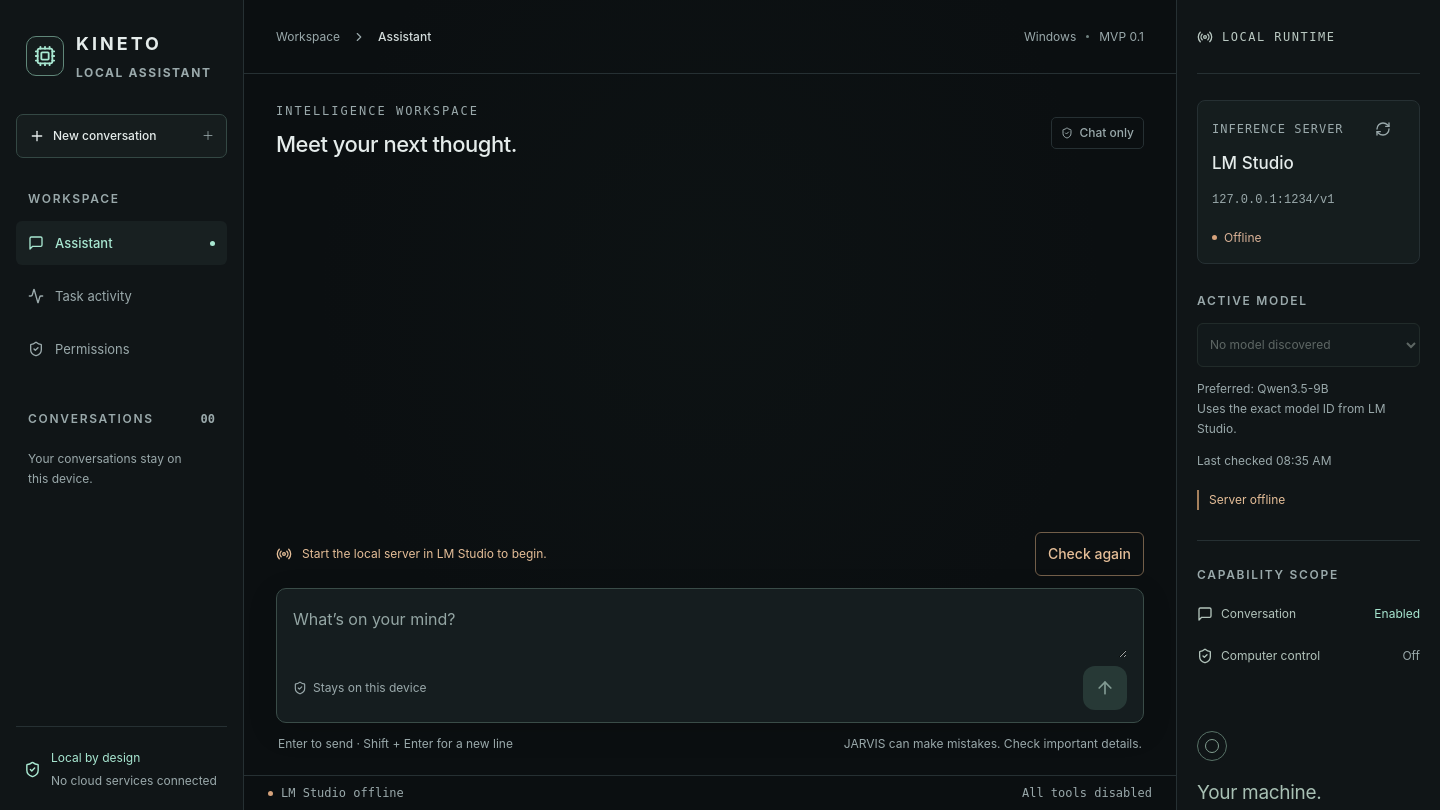
assistant workflow › keeps a draft and prevents sending while LM Studio is offline
The image size is (1440, 810).
(page scrolled)
Expected: the text "Server offline" is shown, x1=1197 y1=490 x2=1420 y2=510
Type "keep this" into the text box named "Message JARVIS".
click(710, 630); type("keep this")  # box x1=293 y1=603 x2=1127 y2=658
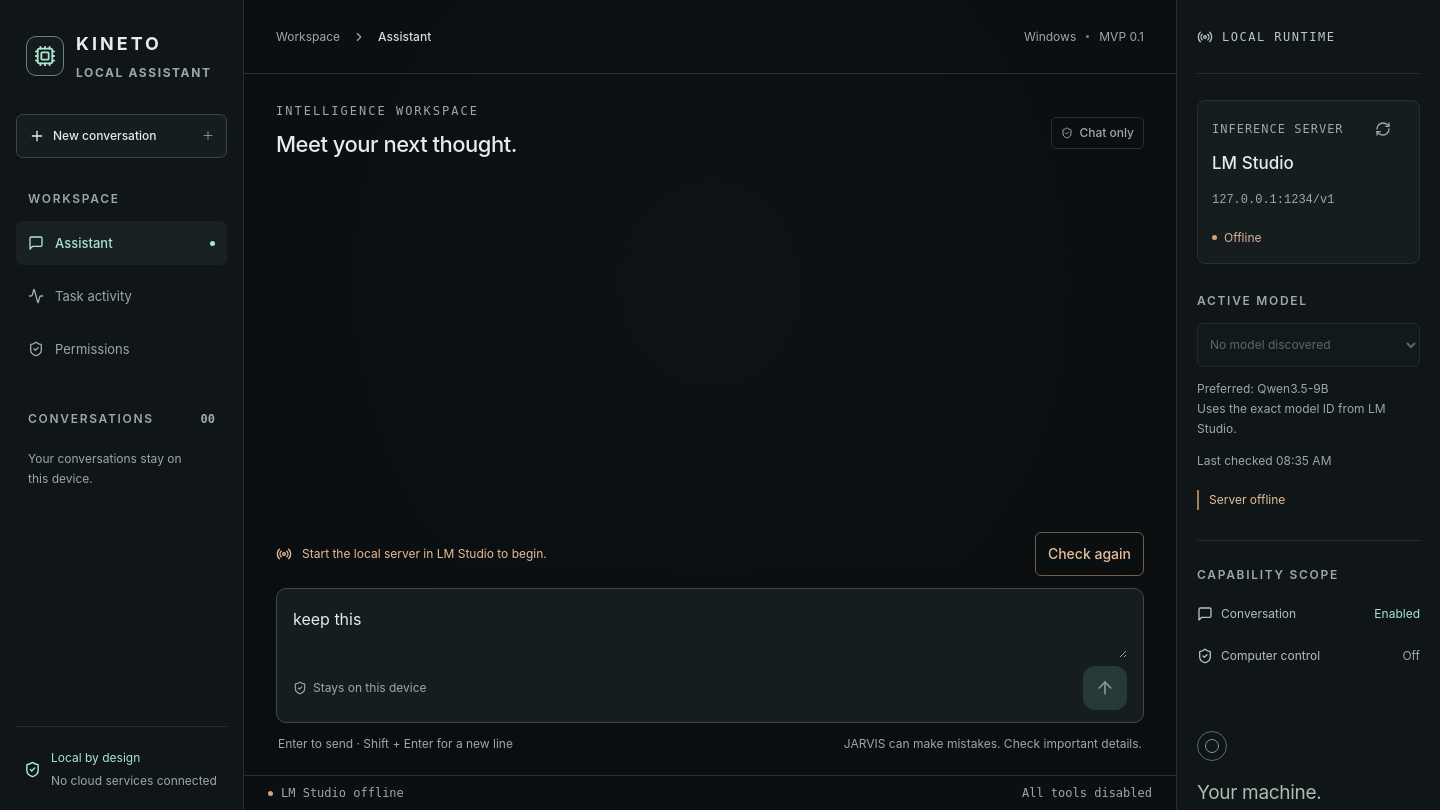
Expected: the button named "Send message" is disabled, x1=1083 y1=666 x2=1127 y2=710
Press Enter in the text box named "Message JARVIS", box x1=293 y1=603 x2=1127 y2=658
Click the button "Check again".
click(1089, 554)  # box x1=1035 y1=532 x2=1144 y2=576
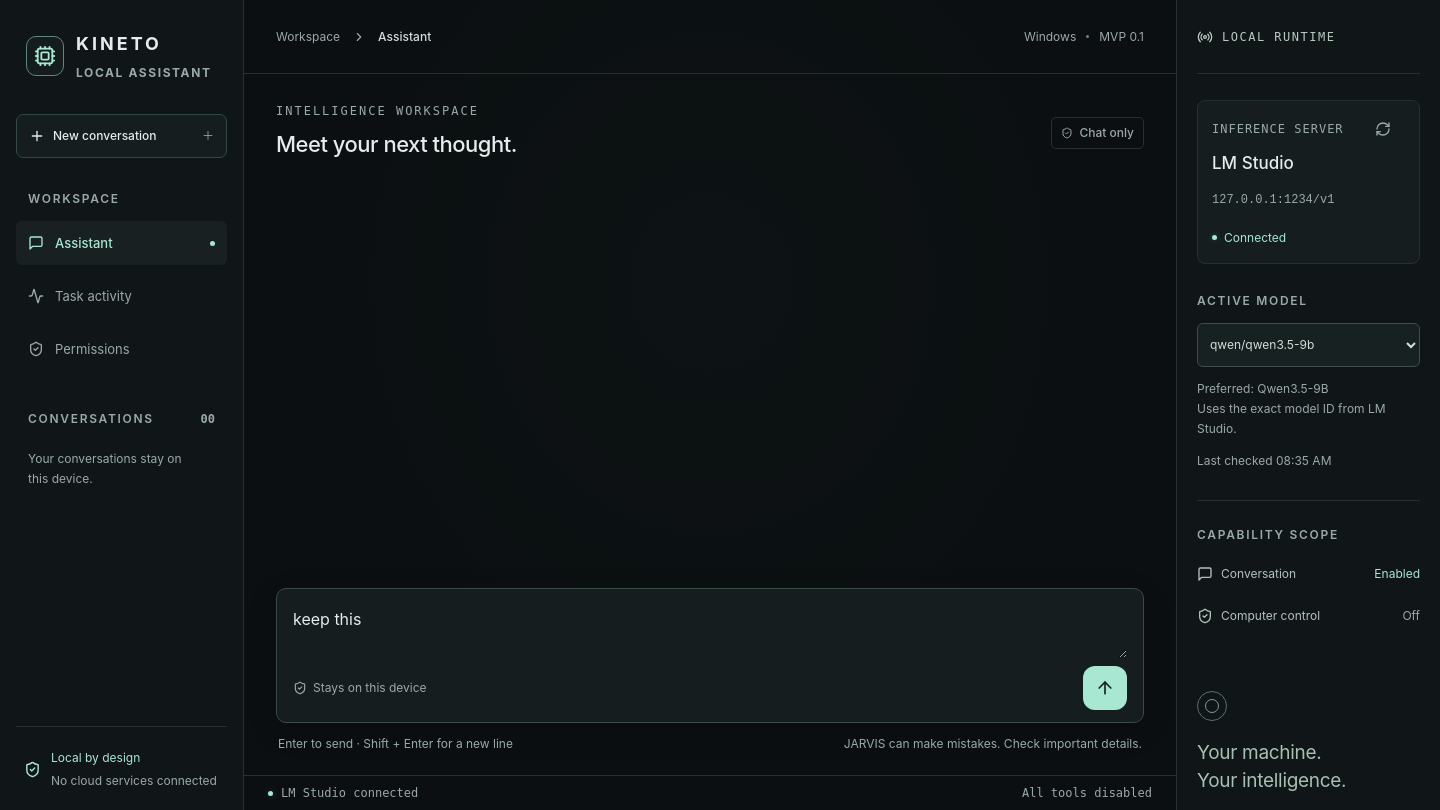
Expected: the button named "Send message" is enabled, x1=1083 y1=666 x2=1127 y2=710
